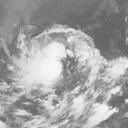cyclone: (15, 24, 75, 89)
